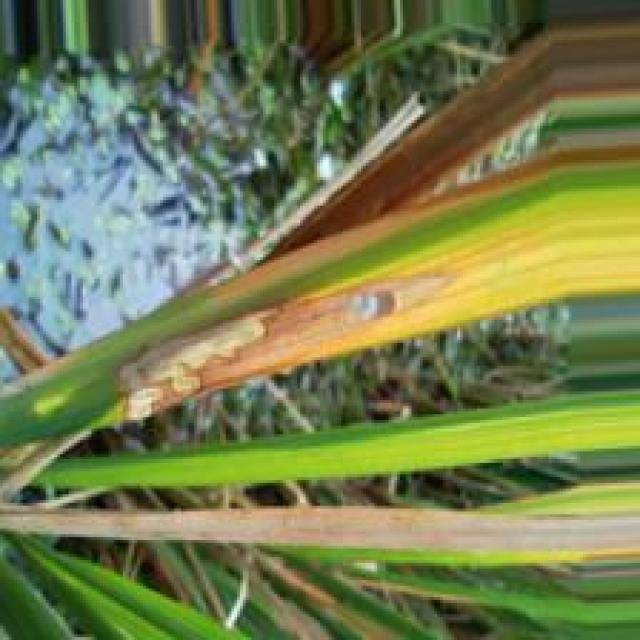Bacterial_Leaf_Blight: (115, 178, 640, 421), (0, 508, 579, 550)
